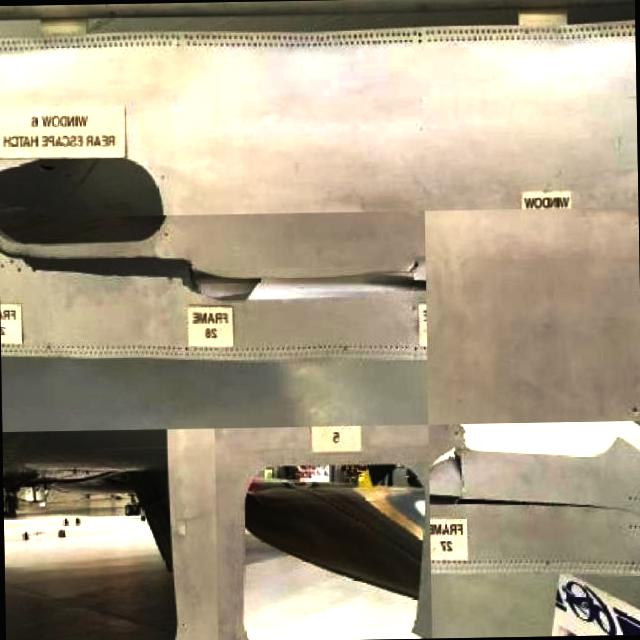crack: (431, 489, 631, 515)
